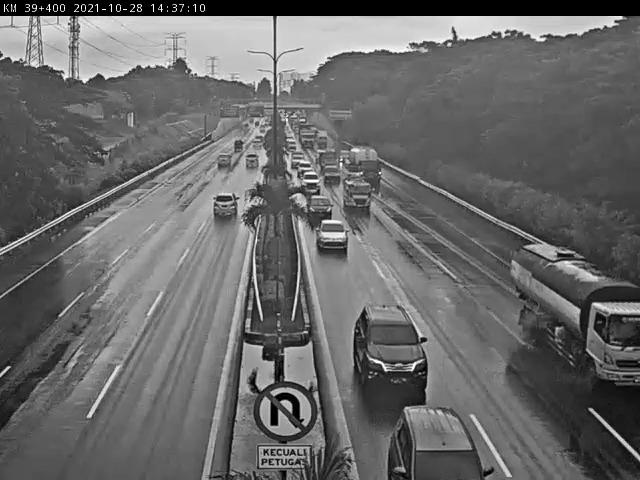big truck: (504, 240, 640, 388), (346, 142, 383, 189)
car: (377, 397, 496, 480), (342, 297, 434, 398), (314, 217, 352, 255), (210, 189, 240, 221), (304, 191, 336, 221), (318, 162, 344, 187), (297, 168, 321, 192), (242, 152, 261, 172), (296, 159, 316, 178), (214, 153, 234, 169), (289, 152, 304, 167), (232, 139, 245, 154), (251, 138, 263, 152)
small truck: (339, 171, 371, 210)
